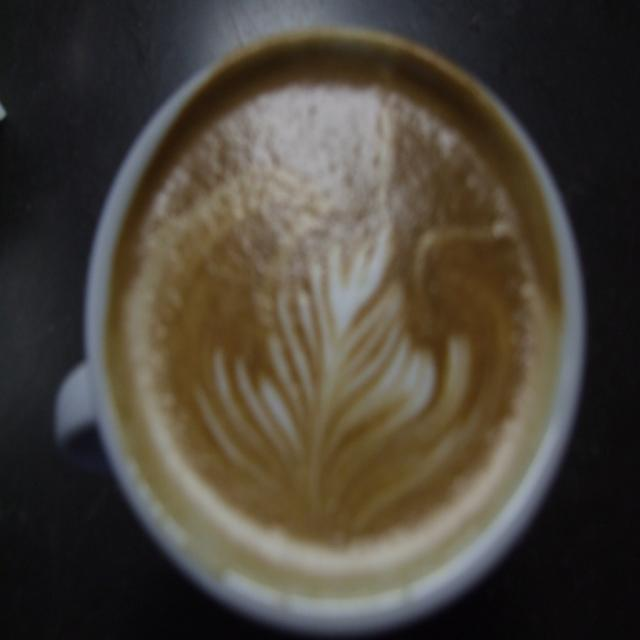Coffee: (109, 55, 559, 607)
